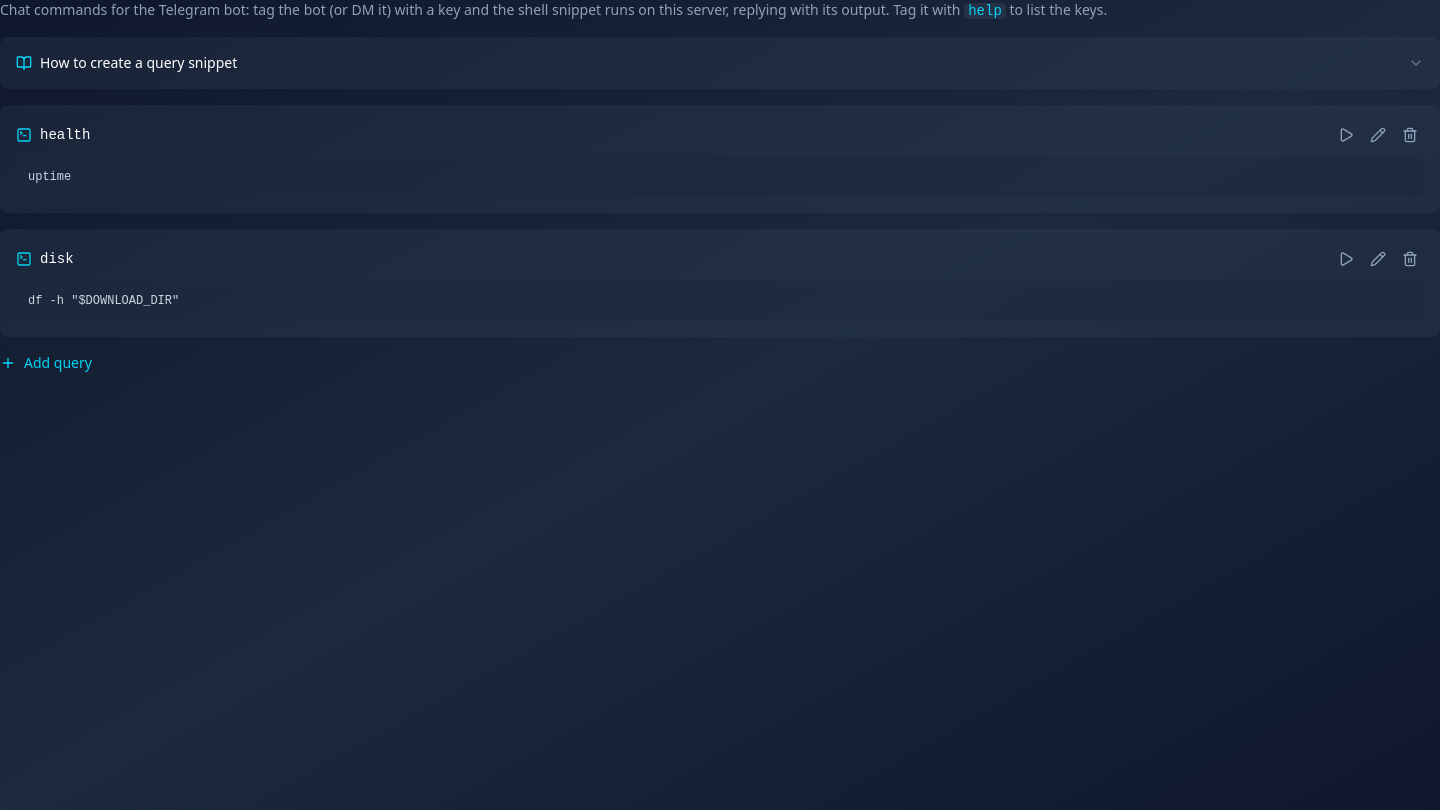
Test: QueriesSettings - run and delete › runs the snippet and shows its output, which can be dismissed
Expected: the text "health" is shown, [40,125,90,145]
What coordinates should you click on to do the following:
click the button titled "Run now" in the row of "health"
I would click on:
 (1346, 135)
Its box is [1332,121,1360,149].
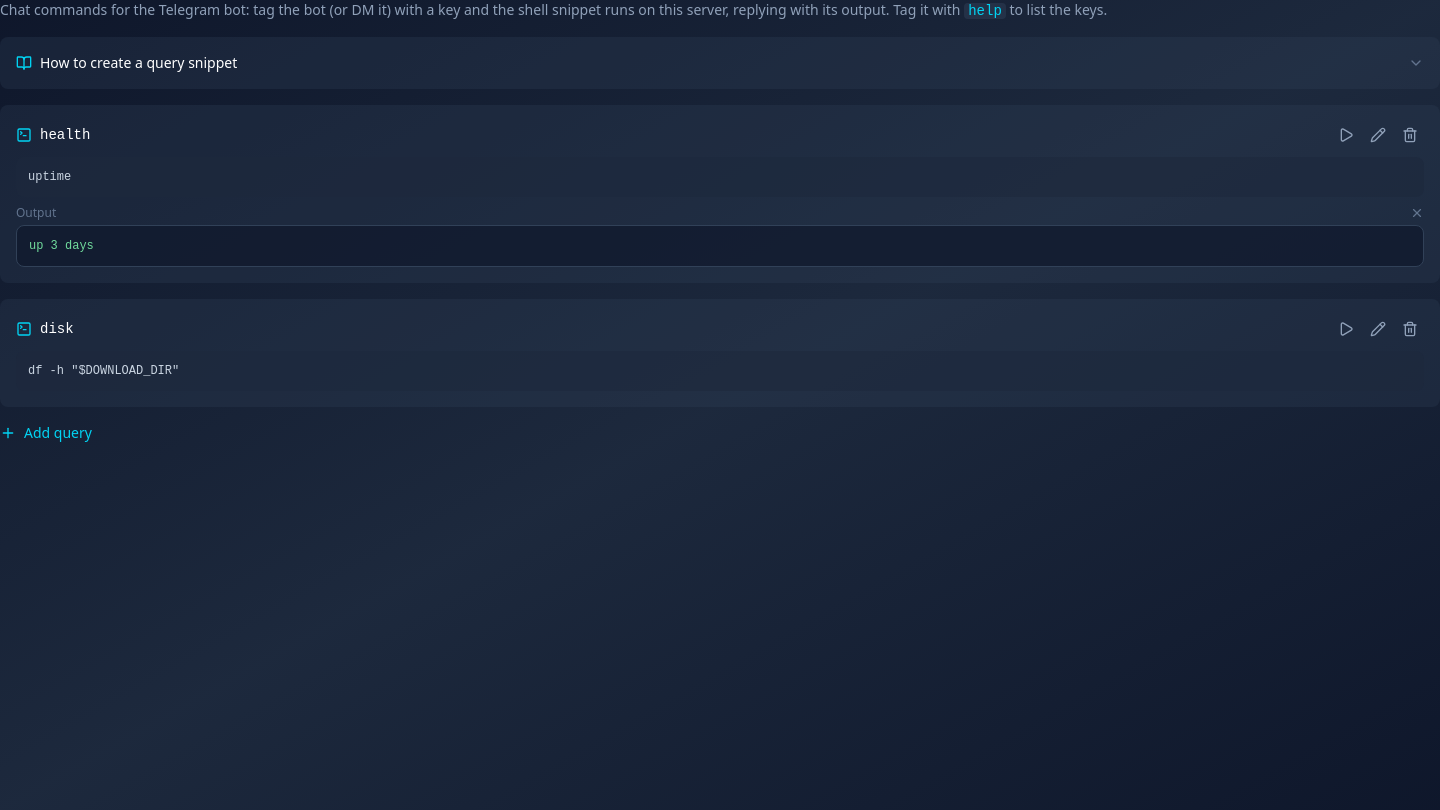
Now the text "up 3 days" is shown, box [16,225,1424,267]
Now the text "Output" is shown, box [16,205,56,221]
What coordinates should you click on to do the following:
click the button titled "Dismiss"
I would click on:
 (1417, 213)
Its box is [1410,206,1424,220].
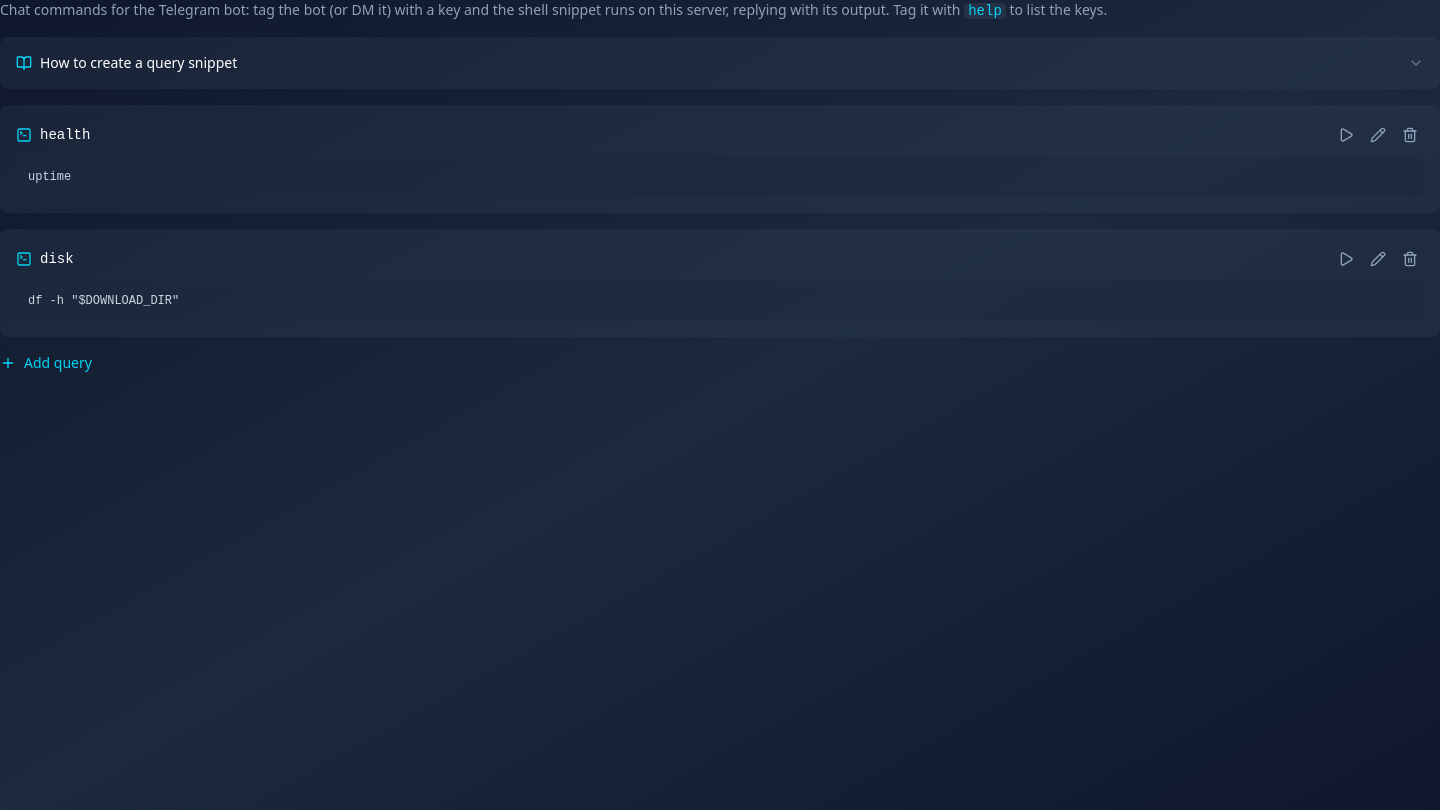
Now the text "up 3 days" is gone
